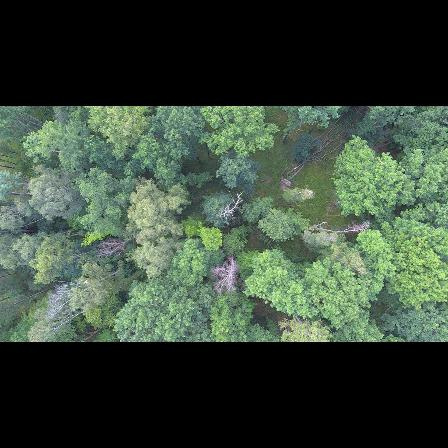Dead: (43, 287, 92, 323), (304, 217, 372, 239), (208, 254, 241, 295), (95, 234, 136, 264), (219, 189, 243, 224)
